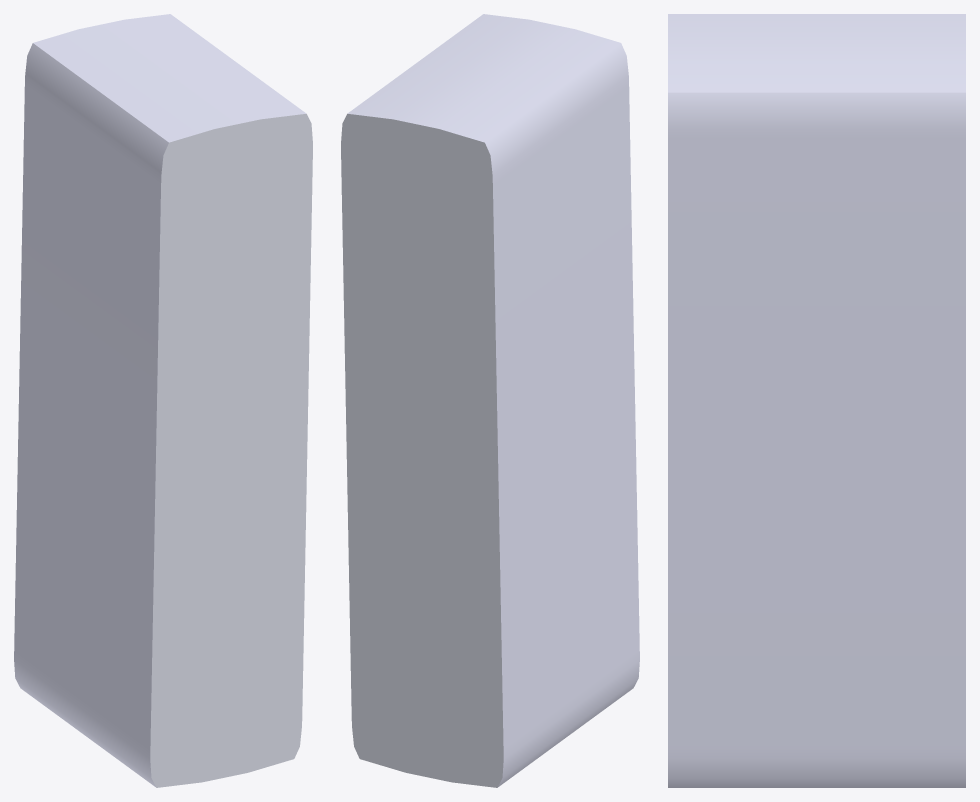
Rendered from L_Zyzol_Grey.glb.
The picture shows the model from 3 angles, left to right: view 1: azimuth 30°, elevation 25°; view 2: azimuth 150°, elevation 25°; view 3: azimuth 270°, elevation 25°; orthographic projection. The views are drawn at different scales.
Parts seen in each view (by area): view 1: l_Zyzol_Grey; view 2: l_Zyzol_Grey; view 3: l_Zyzol_Grey.
Boxes of the visible parts, left/top/right/bottom form: l_Zyzol_Grey: left=14, top=14, right=312, bottom=787; l_Zyzol_Grey: left=341, top=14, right=639, bottom=787; l_Zyzol_Grey: left=668, top=14, right=965, bottom=787.
Size of what is drawn, in the model's own units: 0.031 by 0.1188 by 0.045.
2 materials, 2 textured.
